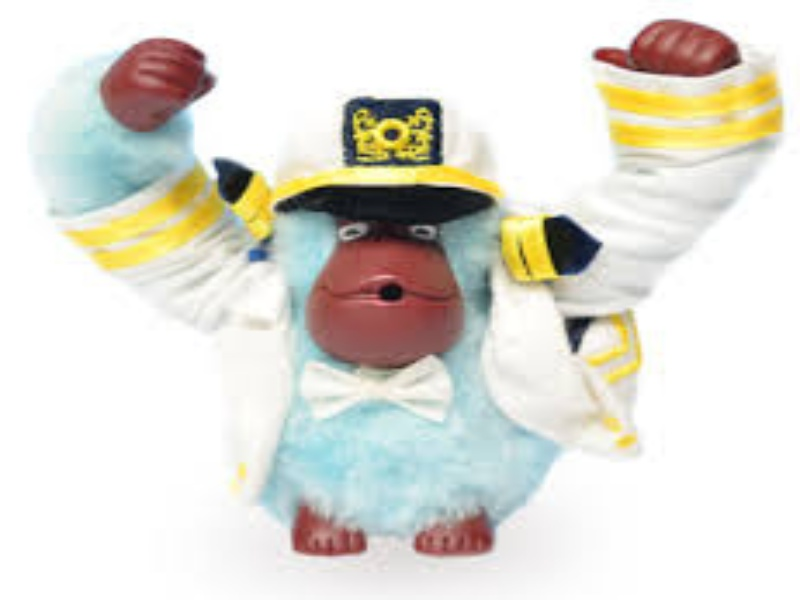monkey: (28, 18, 772, 572)
